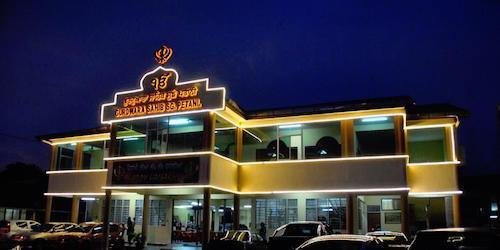Gurdwara: (32, 43, 458, 236)
